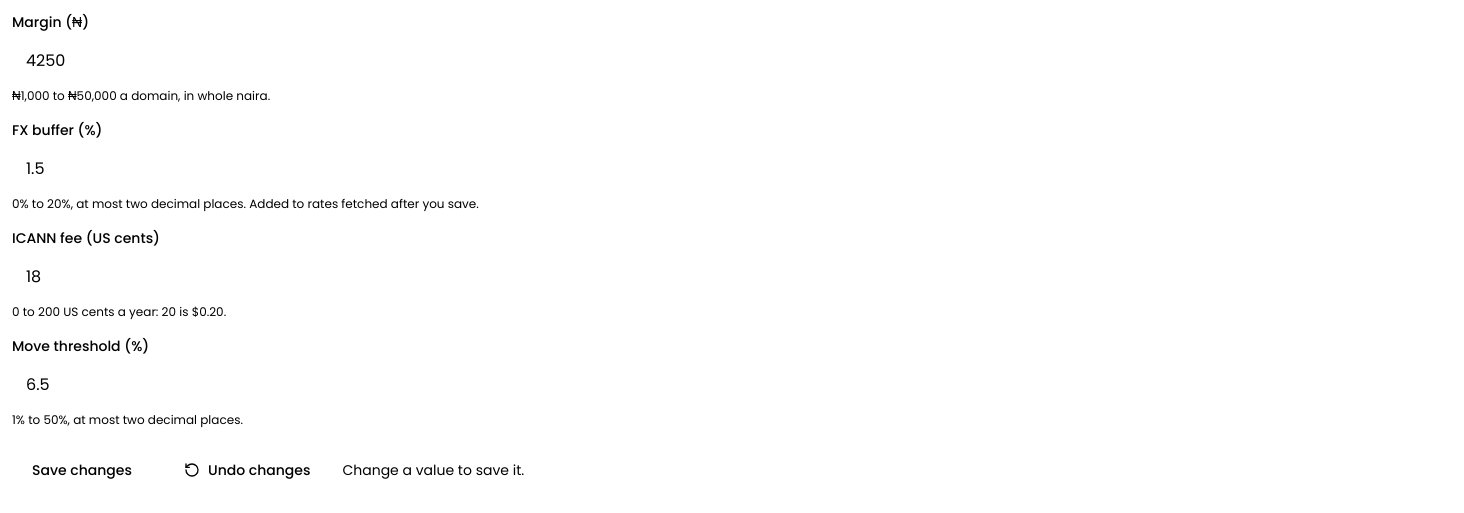
Test: the settings form › refuses a value outside its bounds, in words tied to the field, and will not save
Replace the text in the field labelled "FX buffer (%)" with "25" at [732, 168], box [12, 146, 1452, 190]
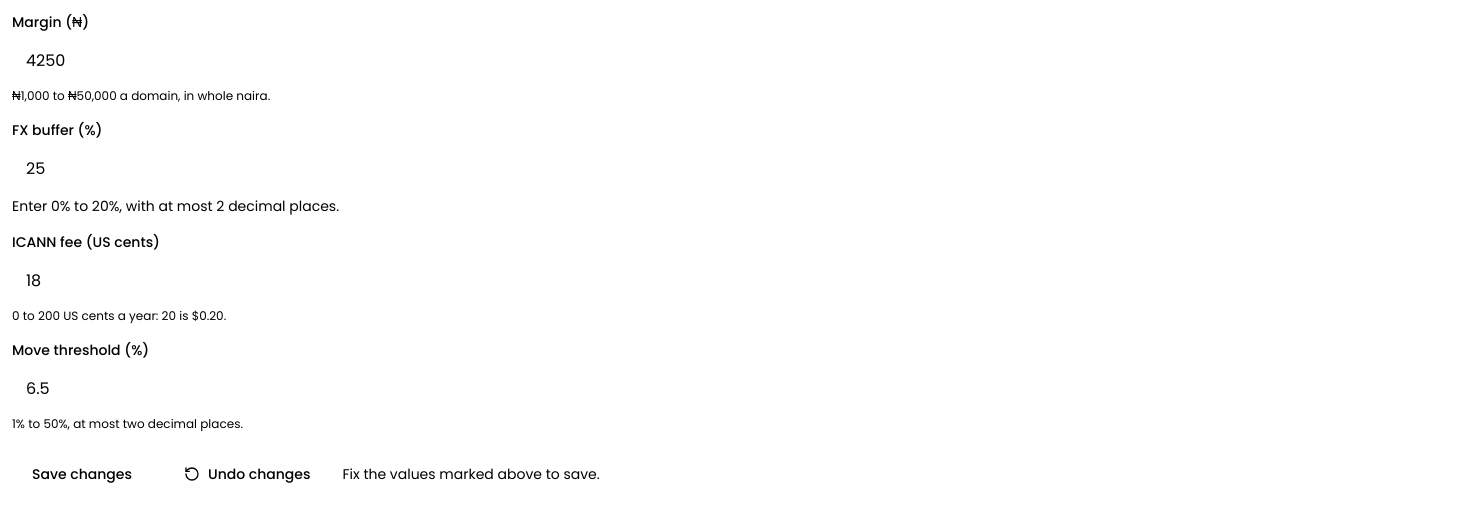
Check: the button "Save changes" is disabled, box [12, 452, 152, 496]
Check: the message reads "Fix the values marked above to save.", box [342, 464, 600, 484]
Click the button "Undo changes".
click(247, 474)  # box [164, 452, 330, 496]
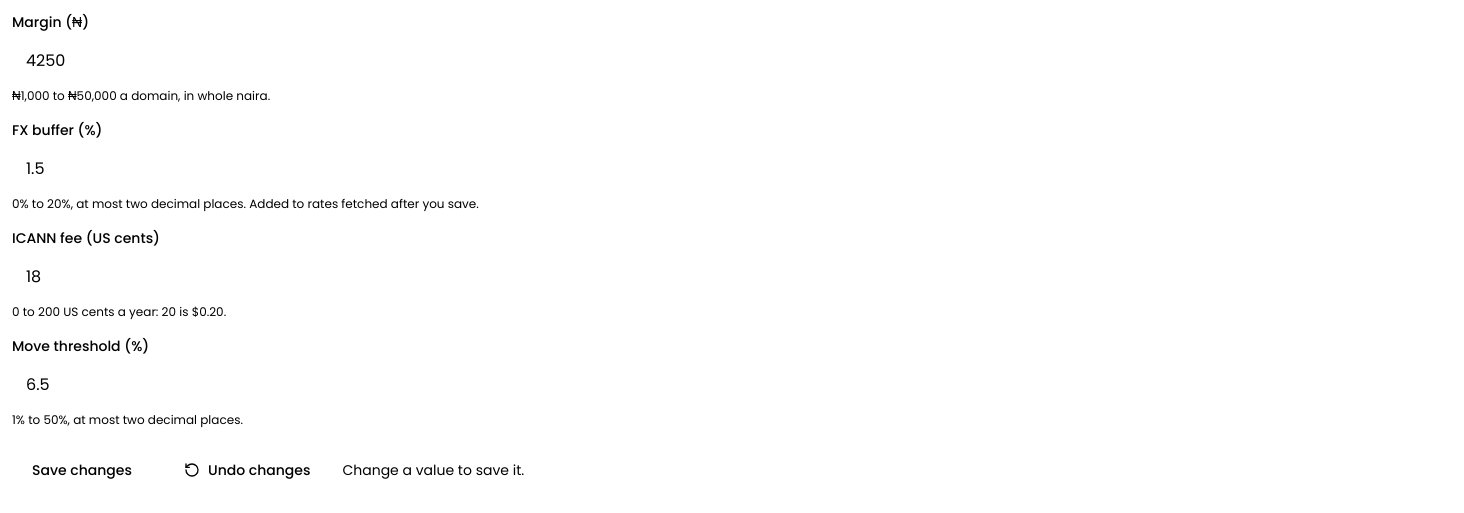
Check: the field labelled "FX buffer (%)" holds "1.5", box [12, 146, 1452, 190]
